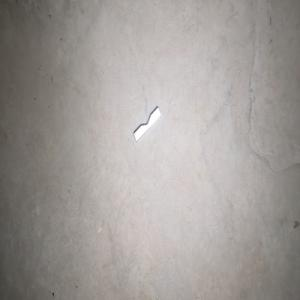ClampPart: (133, 106, 161, 142)
